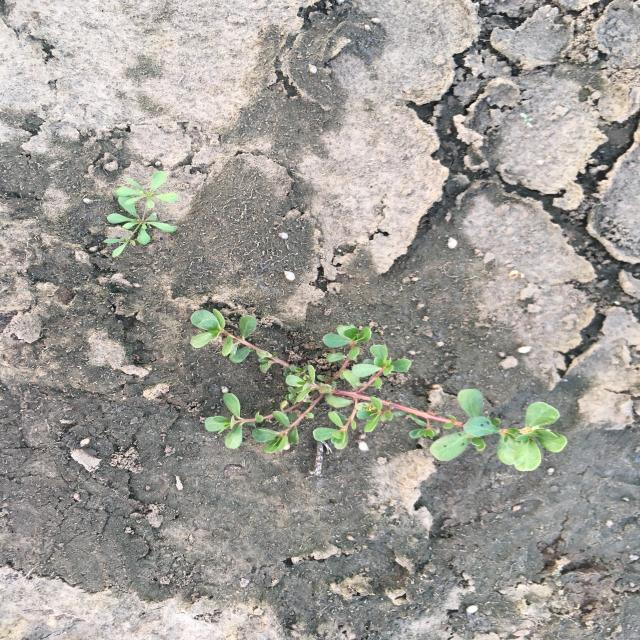Carpetweed: (102, 170, 181, 260)
Purslane: (188, 307, 570, 473)
